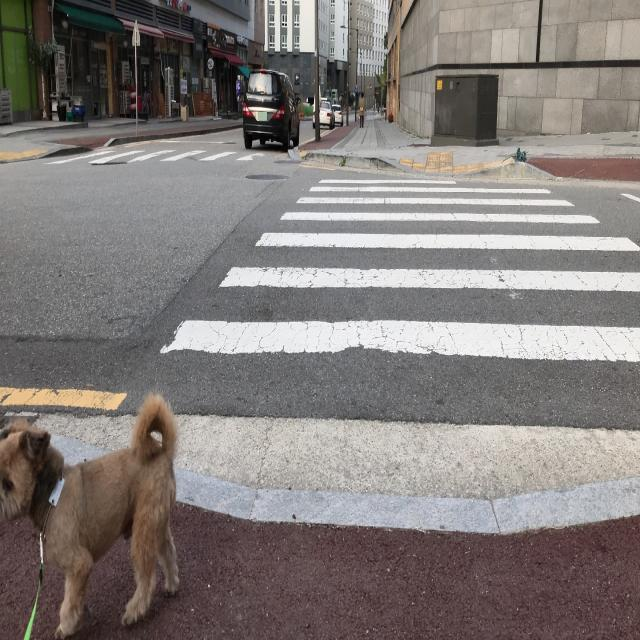횡단보도: (158, 172, 638, 366), (90, 132, 284, 165)
